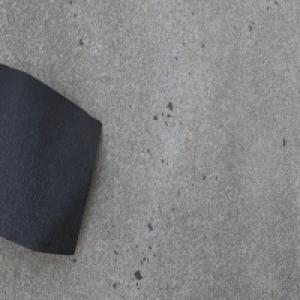PaintChip: (0, 61, 102, 257)
